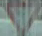Give way: (2, 0, 41, 34)
